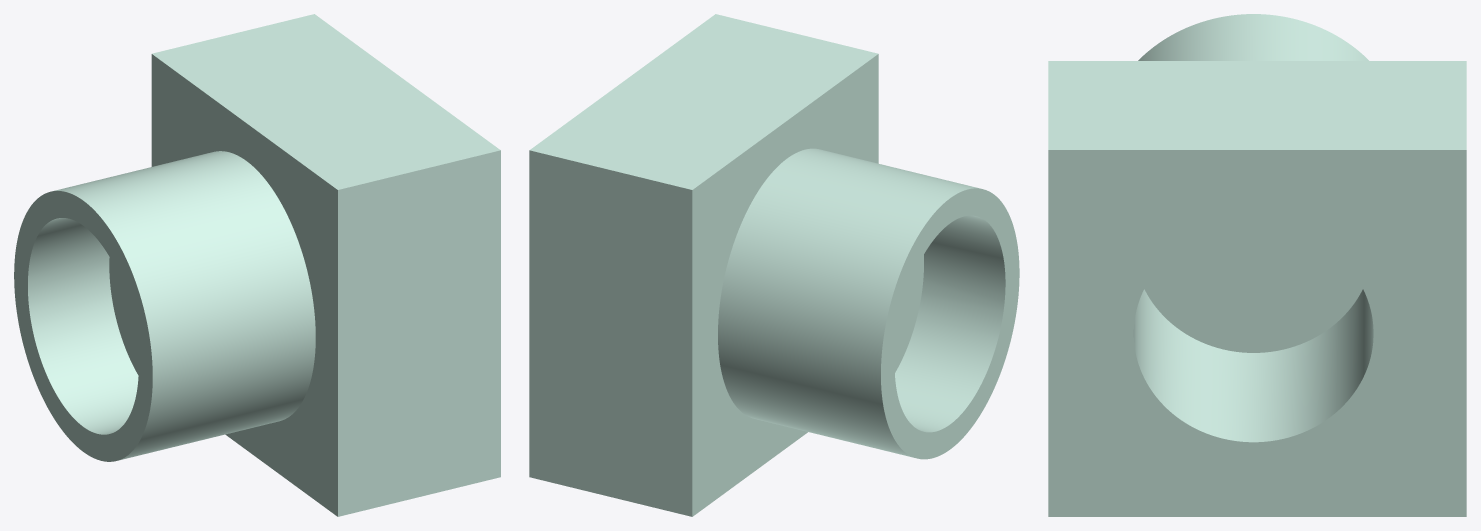
The picture shows the model from 3 angles, left to right: view 1: azimuth 30°, elevation 25°; view 2: azimuth 150°, elevation 25°; view 3: azimuth 270°, elevation 25°; orthographic projection. The views are drawn at different scales.
Visible parts, largest first — view 1: Renderer Node; view 2: Renderer Node; view 3: Renderer Node.
Part boxes in pixels (x1,y1,x2,y2): Renderer Node: (14,14,500,516); Renderer Node: (529,14,1019,516); Renderer Node: (1048,14,1466,516).
Size of the model in its own units: 0.75 by 0.7188 by 0.7422.
